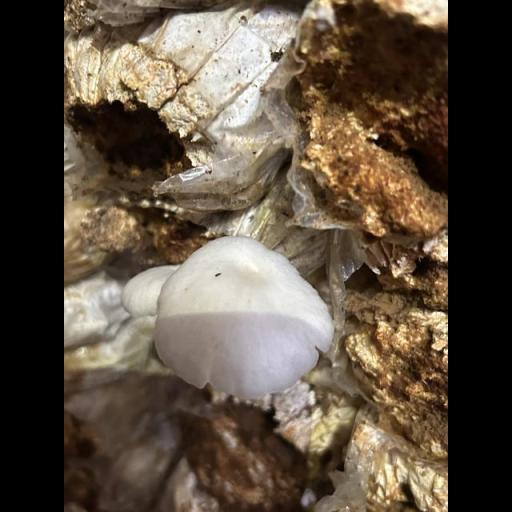White Oyster Mushroom: (122, 234, 334, 400)
